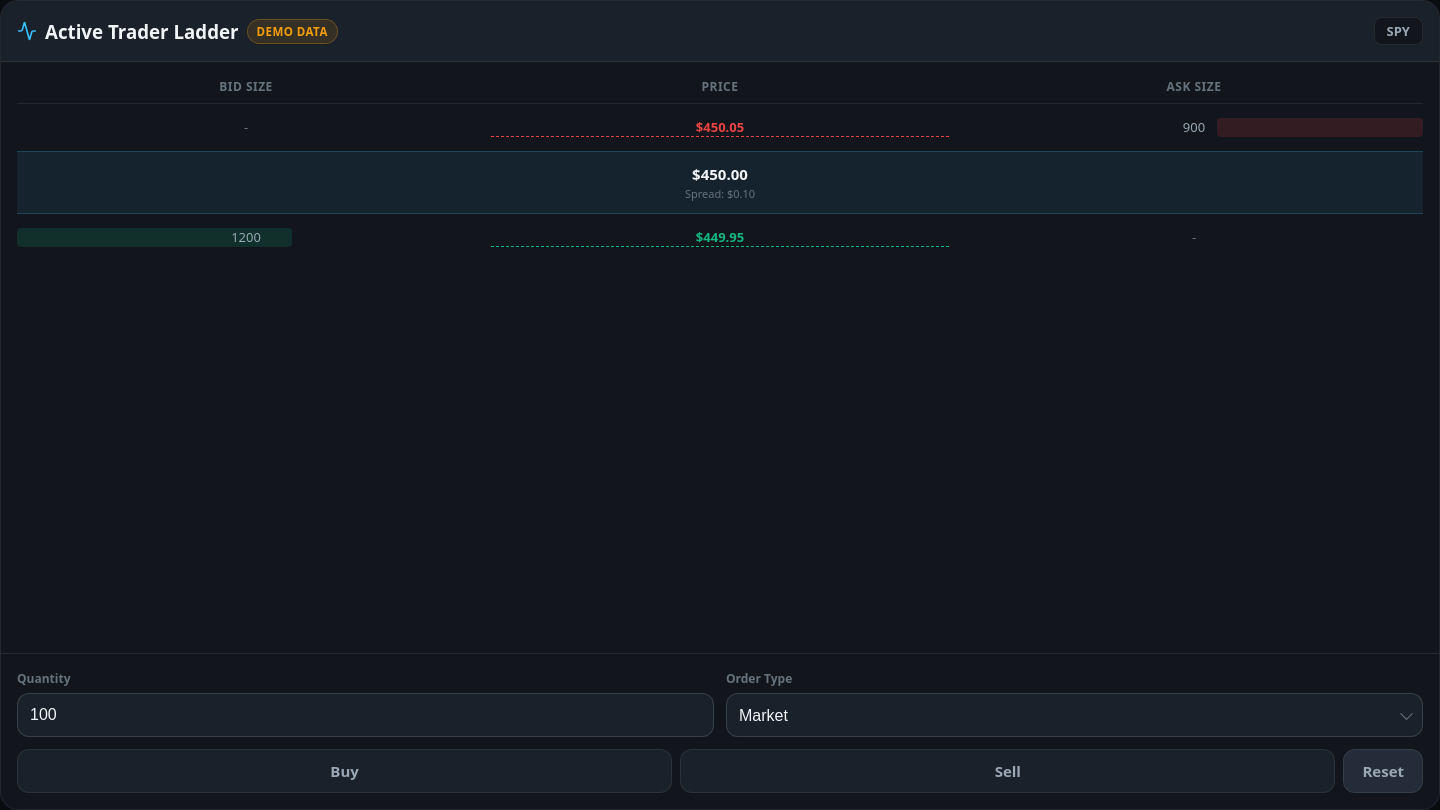
Test: ActiveTraderLadder — trade panel › clicking a ladder bid price switches to LIMIT and populates the limit price field
This screenshot has width=1440, height=810.
Click the button with test id "ladder-bid-price-0".
click(720, 238)  # box [491,228,949,247]
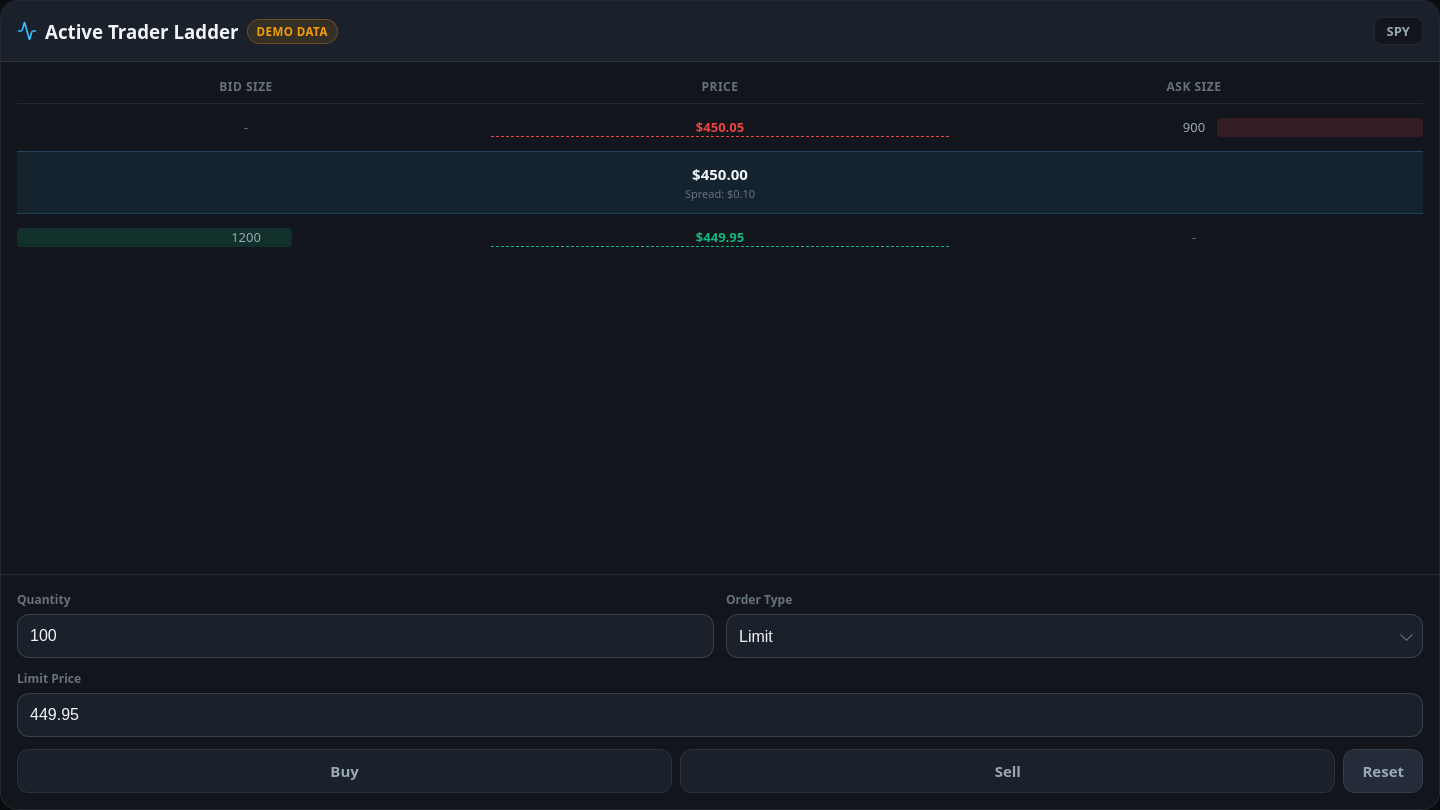
expect the dropdown labelled "Order Type" shows "Limit": met, box [726,614,1423,658]
expect the number field labelled "Limit Price" holds "449.95": met, box [17,693,1423,737]
